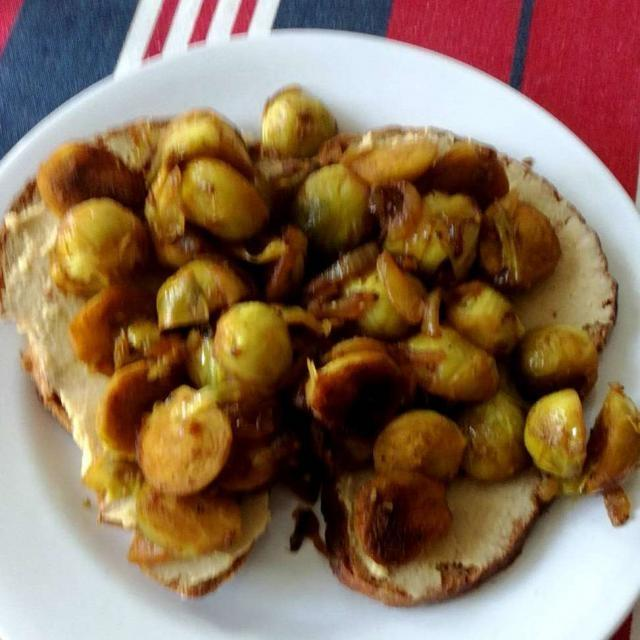bread: (17, 122, 606, 586)
brussel-sprouts: (43, 102, 601, 559)
hummus: (19, 136, 595, 584)
